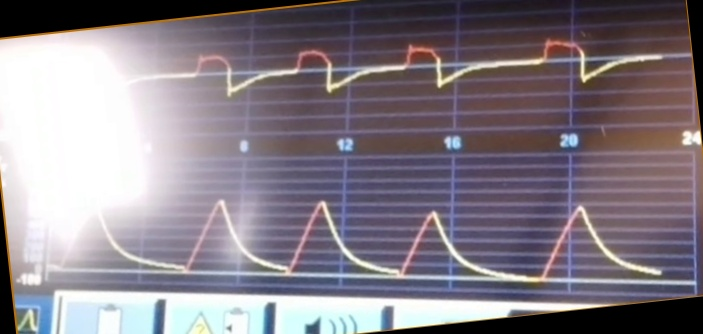Normal Flow: (122, 30, 664, 106)
Normal Volume: (49, 187, 662, 287)
